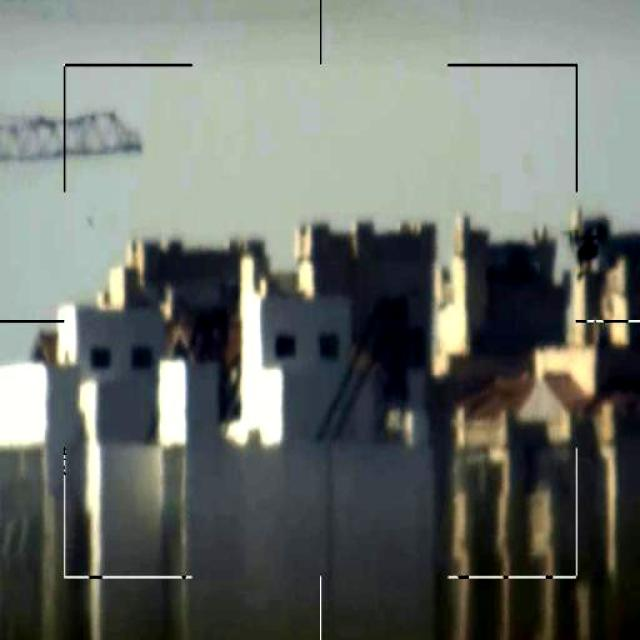bird: (562, 214, 610, 281)
